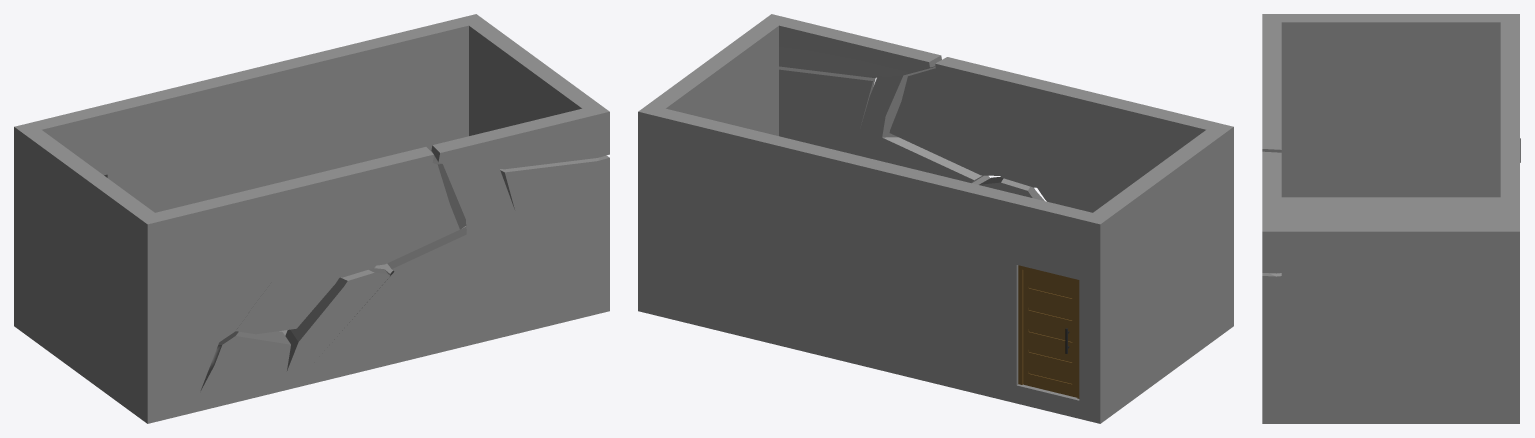
The model's file is MSH_Room_Double_Damaged_01.fbx.
3 views of the same model, side by side, from view 1: azimuth 30°, elevation 25°; view 2: azimuth 150°, elevation 25°; view 3: azimuth 270°, elevation 25° (orthographic). The views are drawn at different scales.
Parts seen in each view (by area): view 1: MSH_Room__Double_Damaged_01; view 2: MSH_Room__Double_Damaged_01, MSH_Door_Single002, MSH_DoorFrame_Single002; view 3: MSH_Room__Double_Damaged_01.
Boxes of the visible parts, x1=… form: MSH_Room__Double_Damaged_01: x1=14, y1=14, x2=609, y2=423; MSH_Room__Double_Damaged_01: x1=638, y1=14, x2=1233, y2=423; MSH_Door_Single002: x1=1023, y1=270, x2=1077, y2=397; MSH_DoorFrame_Single002: x1=1018, y1=265, x2=1079, y2=398; MSH_Room__Double_Damaged_01: x1=1262, y1=14, x2=1519, y2=423.
Bounding box in the file's own units: 315 × 130 × 158.
